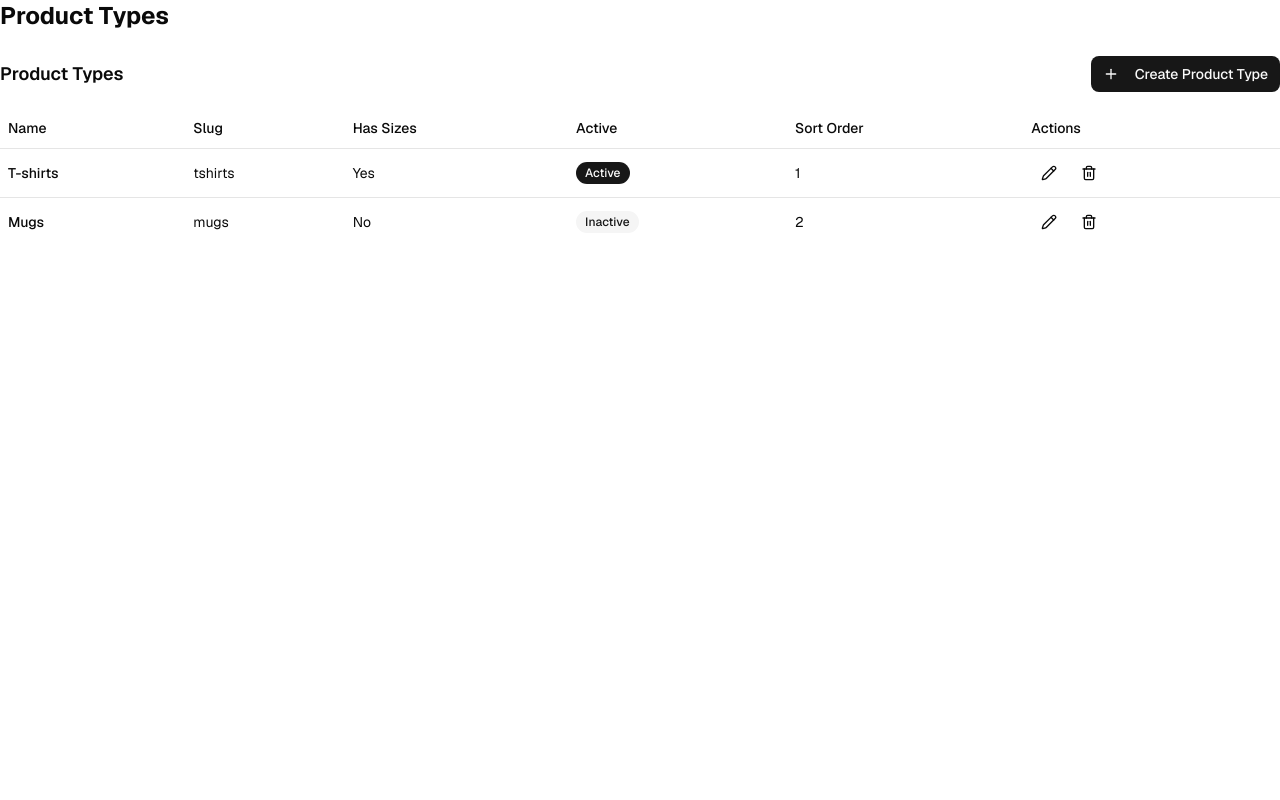
ProductTypesPage › should open edit dialog with data on Edit click
This screenshot has width=1280, height=800.
Expected: the text "T-shirts" is shown, [0, 148, 185, 197]
Click the button named "edit" at (1049, 172), box [1031, 156, 1067, 188]
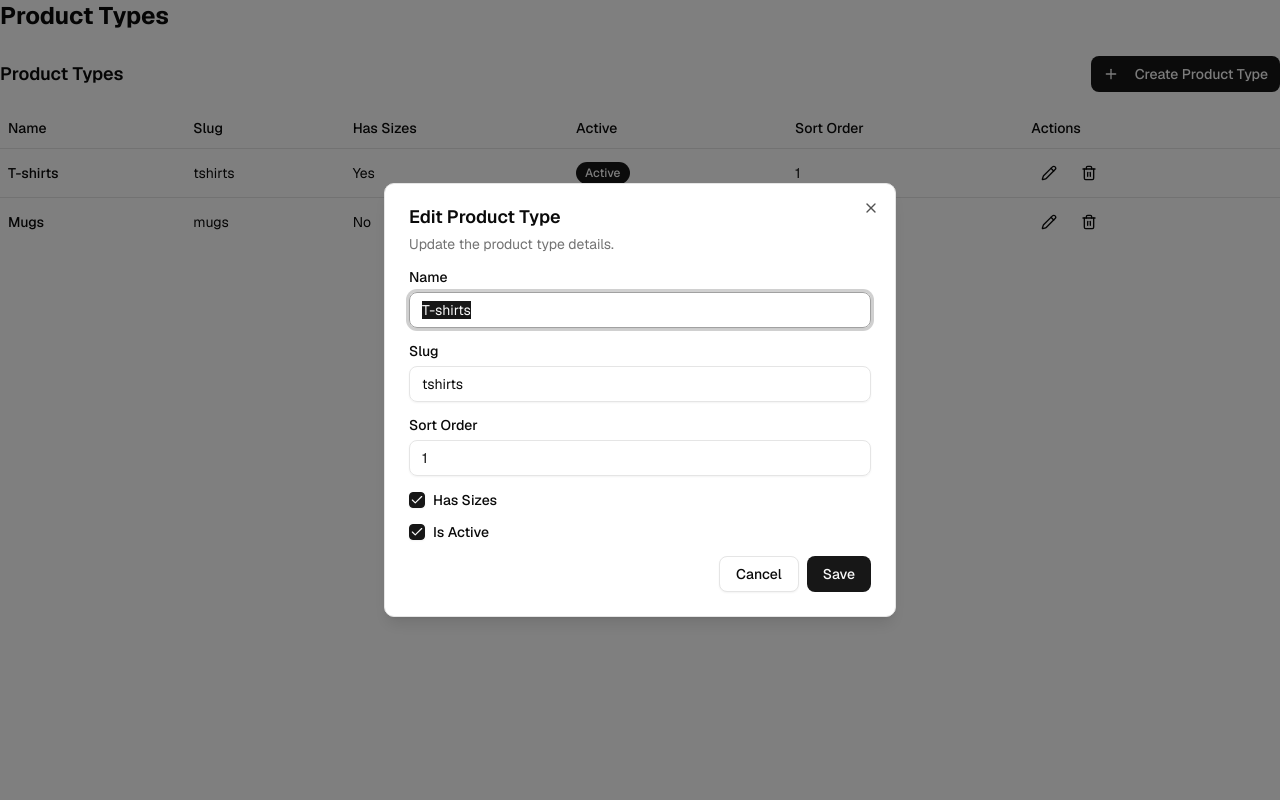
Expected: the heading "Edit Product Type" is shown, [409, 205, 561, 228]
Expected: the field labelled "Name" holds "T-shirts", [409, 292, 871, 328]
